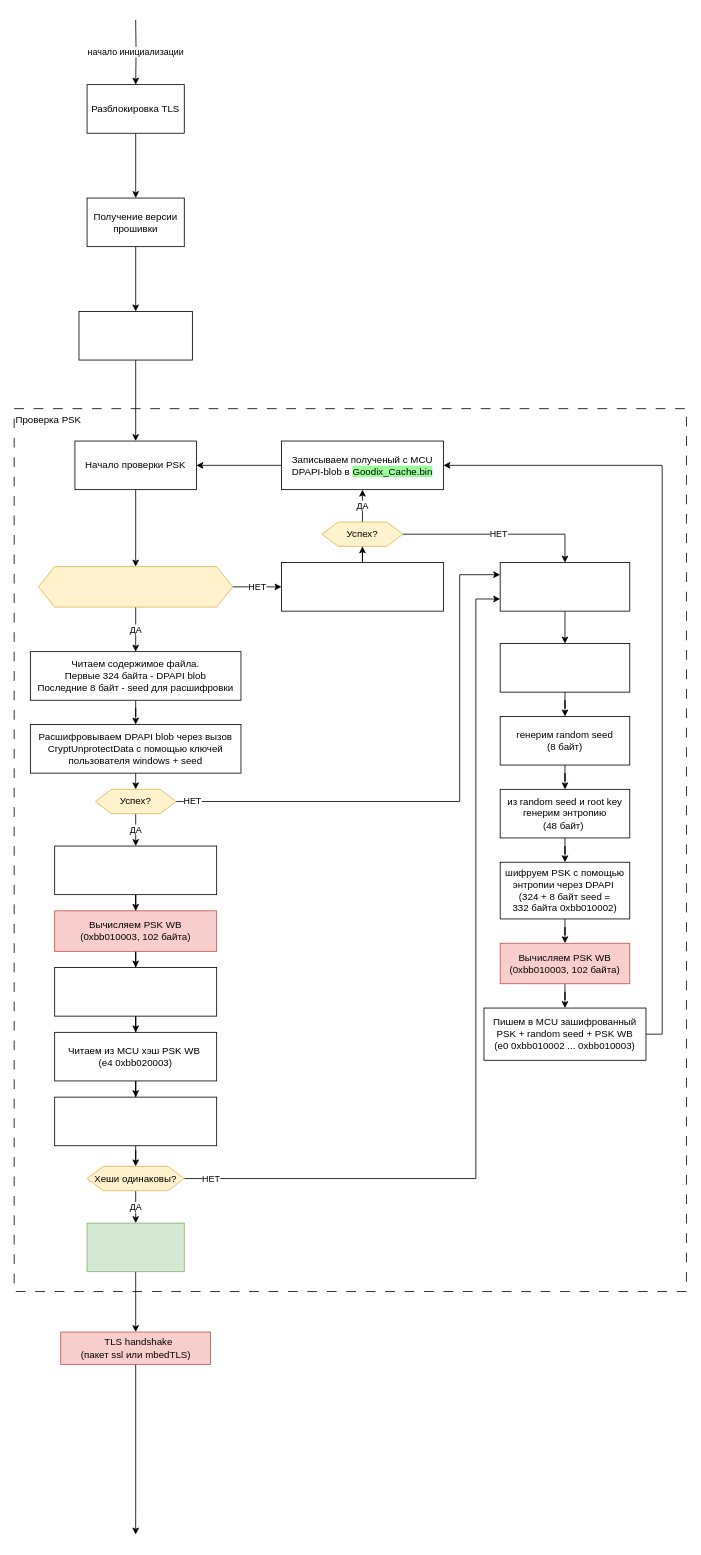
This 701x1555 diagram has some shape labels left out. The centre of each missing label's shape, as x and y in pixels:
"Goodix_Cache.bin существует, не пуст и имеет длину 332 байта" belongs at pixel 135 586.
"Вычисляем SHA-256 хэш PSK WB (32 байта)" belongs at pixel 135 991.
"генерим root key из констант, заданных в коде драйвера (16 байт)" belongs at pixel 564 667.
"Генерим случайный PSK (32 байта)" belongs at pixel 564 586.
"Имеем расшифрованный PSK (32 байта)" belongs at pixel 135 870.
"Получение флагов MCU" belongs at pixel 135 335.
"Сравниваем хэш, полученный от MCU с рассчитанным" belongs at pixel 135 1121.
"Успех! PSK у нас, можем создавать TLS-сессию" belongs at pixel 135 1247.
"Читаем из MCU PSK зашифрованный через DPAPI (e4 0xbb010002)" belongs at pixel 362 586.
